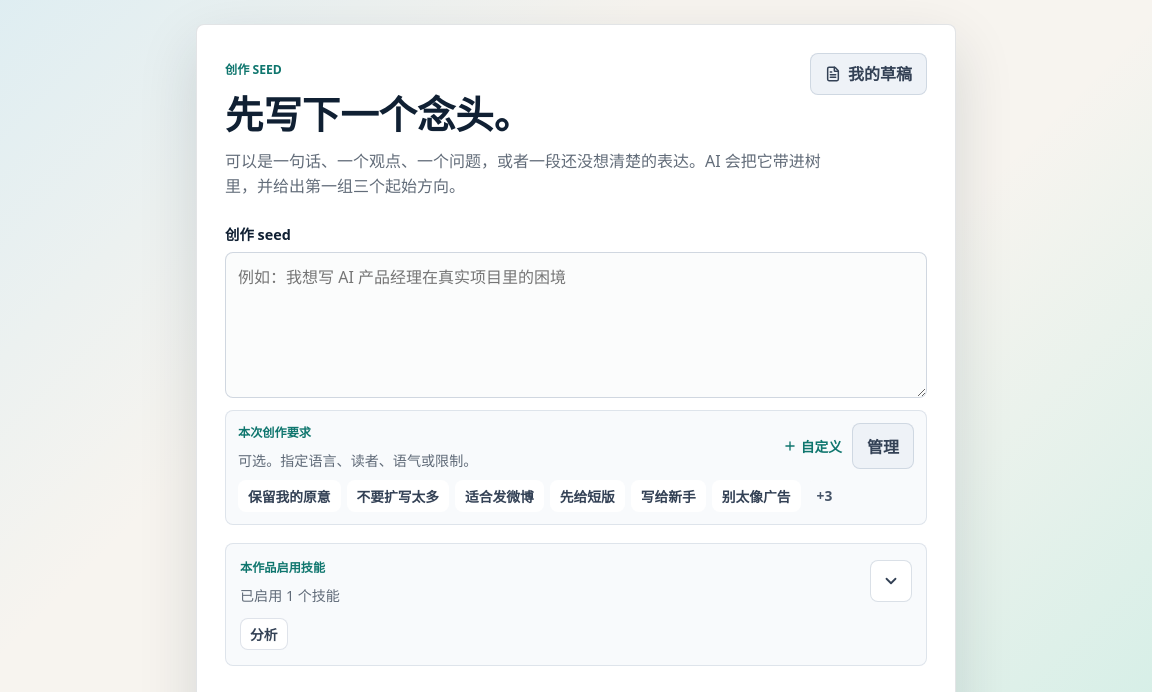
Test: RootMemorySetup › keeps extra quick creation requests collapsed until the user asks for more
Check: the button "改成英文" is not shown
Click the button named "展开更多创作要求". click: (824, 496)
box: [807,480,842,512]
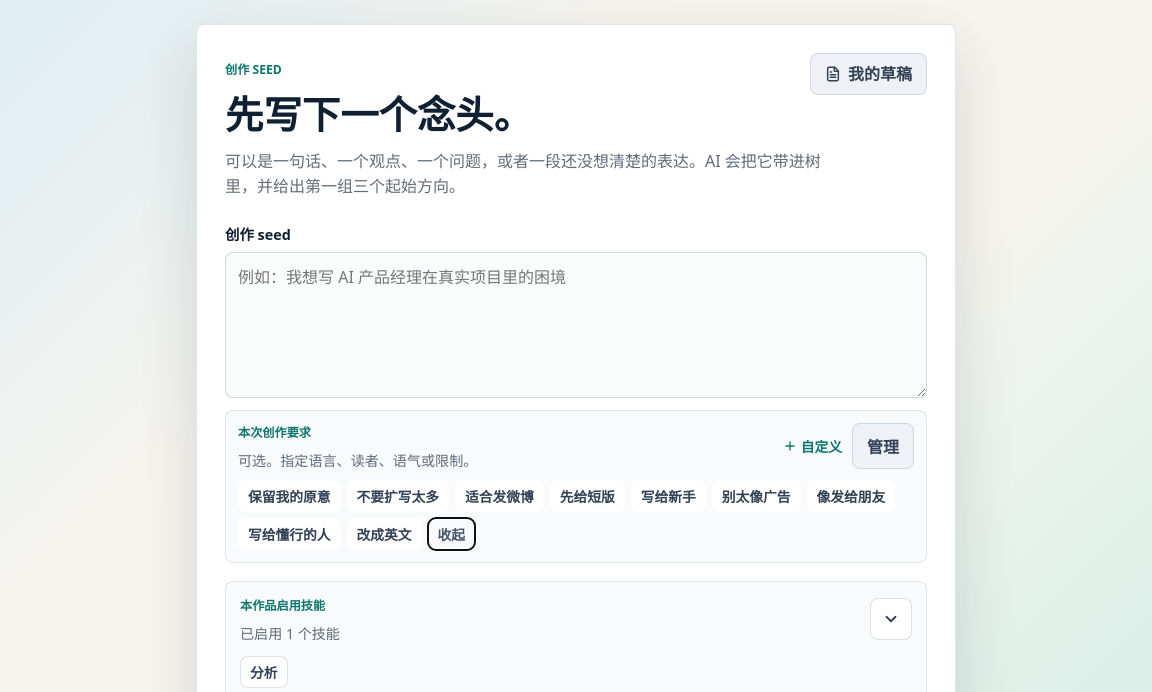
Check: the button with aria-label "收起更多创作要求" is shown, box [428,518,475,550]
